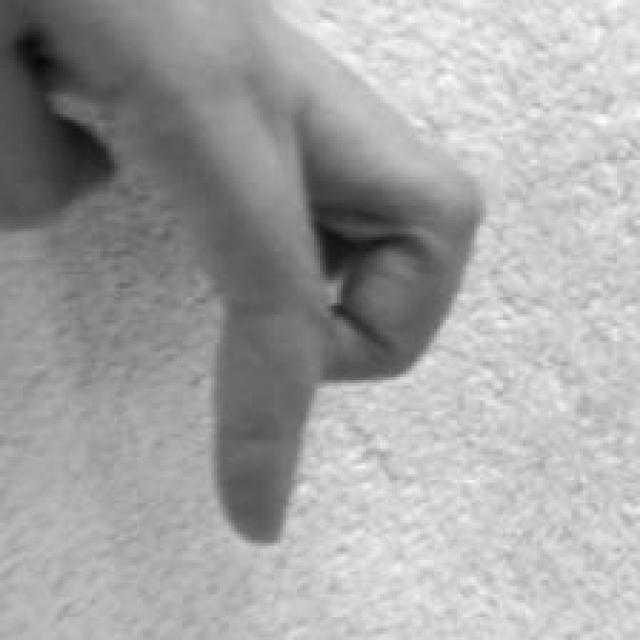P: (0, 0, 491, 553)
